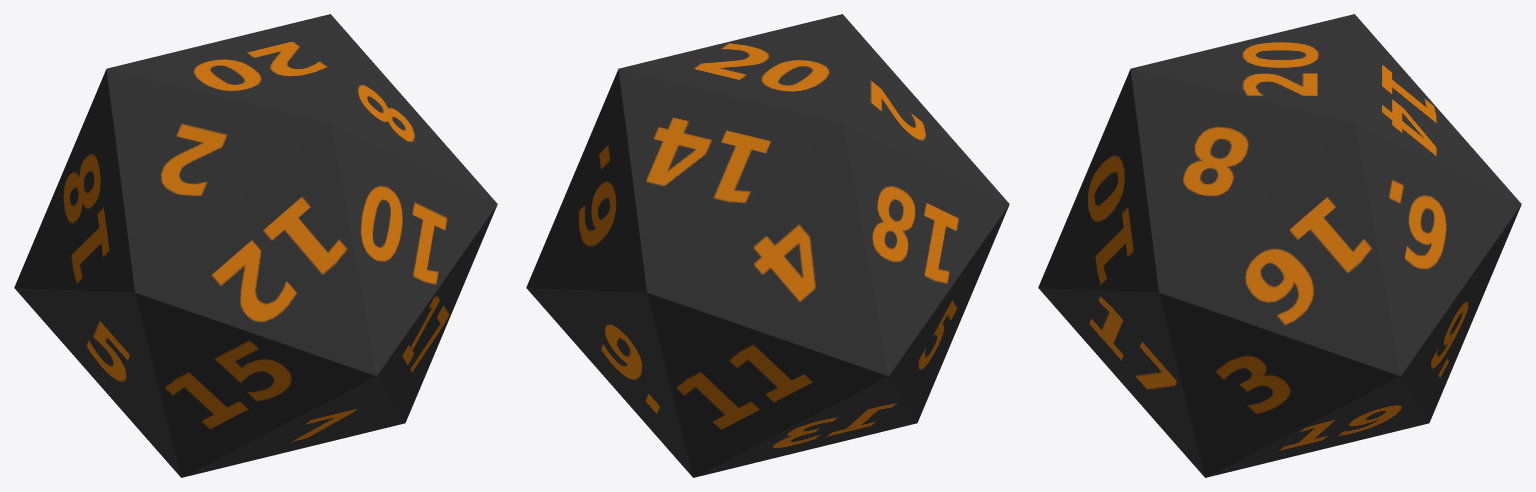
3 views of the same model, side by side, from view 1: azimuth 30°, elevation 25°; view 2: azimuth 150°, elevation 25°; view 3: azimuth 270°, elevation 25° (orthographic).
Visible parts, largest first — view 1: Hedra01; view 2: Hedra01; view 3: Hedra01.
Part boxes in pixels (x1,y1,x2,y2): Hedra01: [14, 14, 497, 477]; Hedra01: [526, 14, 1009, 477]; Hedra01: [1038, 14, 1521, 477].
Bounding box in the file's own units: 73.16 × 68.35 × 84.48.
1 material, 1 textured.
